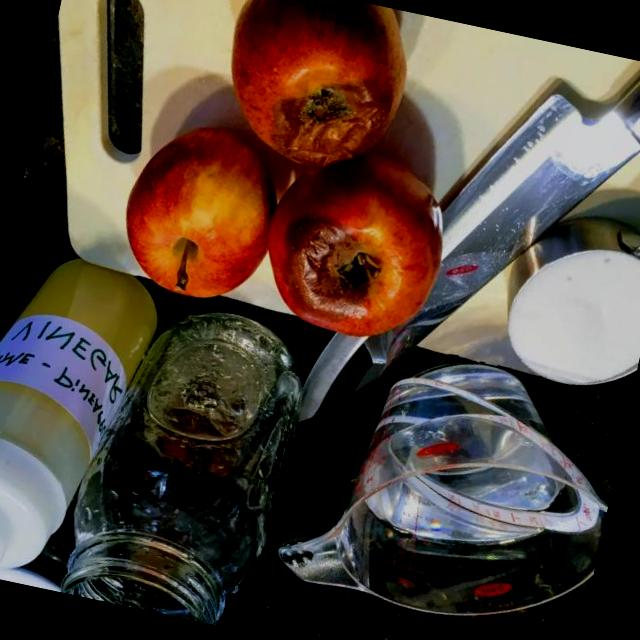Apple: (250, 135, 460, 352), (208, 0, 420, 183), (110, 113, 290, 311)
